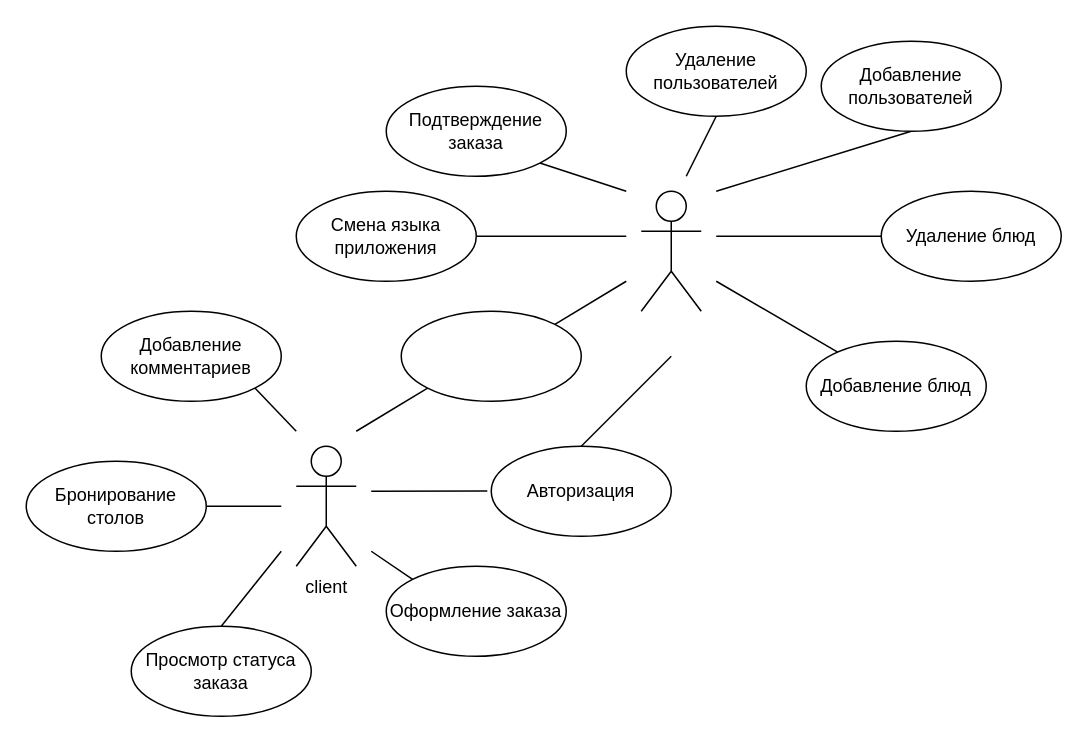
Image size: 1088x743. Some labels were removed from this diagram. The shapes that lost their labels are listed below. From the top down, each one's centre as x and y in pixels, then its label:
At [670,250]: "administrator".
At [490,355]: "Просмотр меню".
